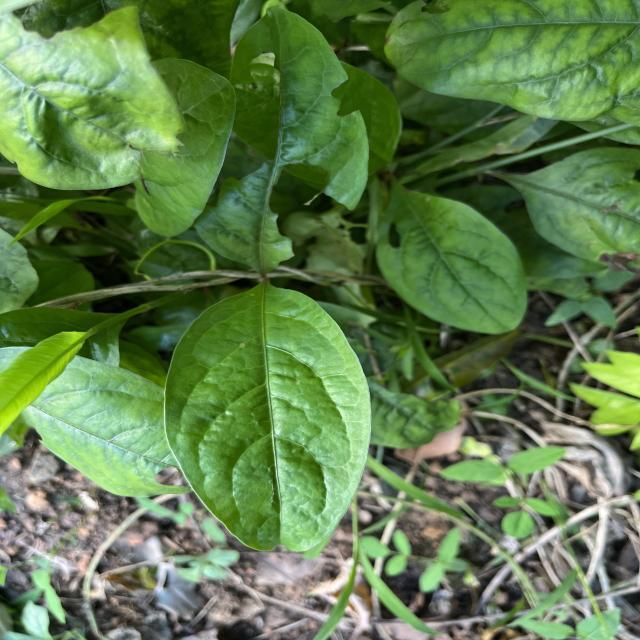Plumbago indica: (162, 278, 378, 556), (379, 0, 640, 124), (372, 184, 530, 336)
